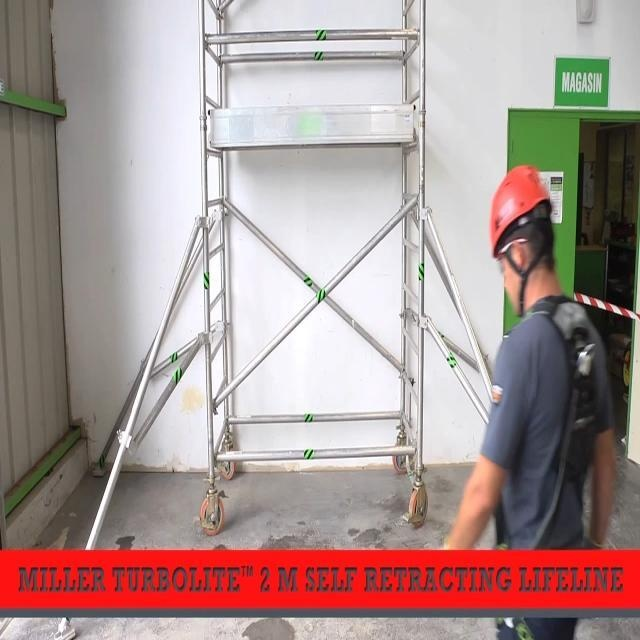Arnes_seguridad: (507, 276, 605, 553)
